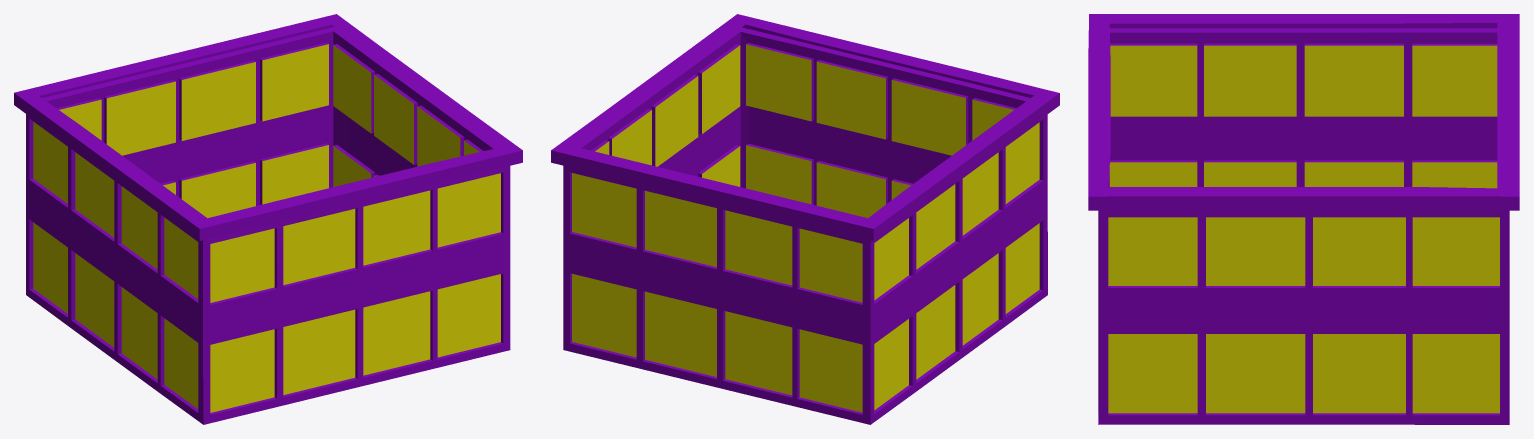
The model's file is Building_Medium_Peice_003.fbx.
3 views of the same model, side by side, from view 1: azimuth 30°, elevation 25°; view 2: azimuth 150°, elevation 25°; view 3: azimuth 270°, elevation 25° (orthographic). The views are drawn at different scales.
Visible parts, largest first — view 1: Building_Medium_Piece_003; view 2: Building_Medium_Piece_003; view 3: Building_Medium_Piece_003.
Part boxes in pixels (box(x1,y1,x2,y2)): Building_Medium_Piece_003: box(14, 14, 522, 424); Building_Medium_Piece_003: box(551, 14, 1059, 424); Building_Medium_Piece_003: box(1088, 14, 1519, 424).
Size of the model in its own units: 6725 by 4000 by 6720.
